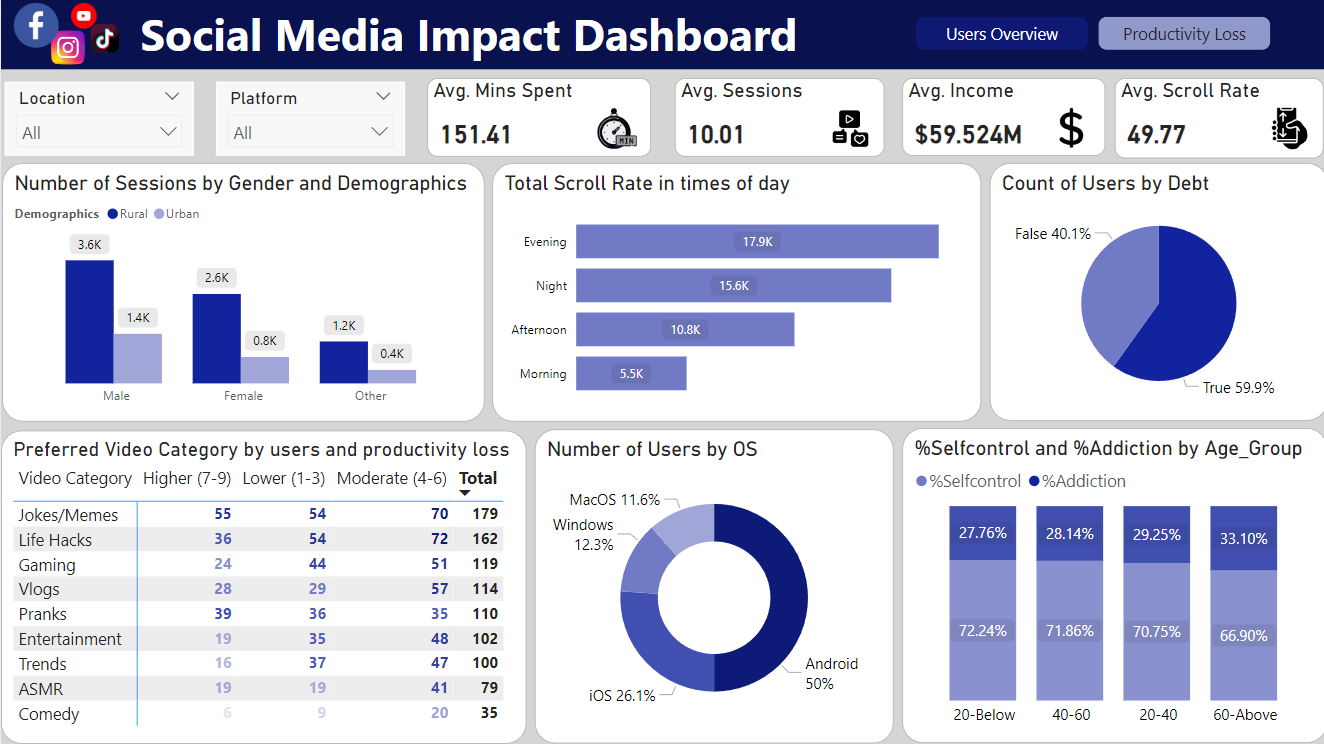

This screenshot's page, from the dashboard's own definition file:
{"tool":"powerbi","page":{"name":"Users Overview","canvas":[1280,720],"ordinal":0},"visuals":[{"type":"textbox","box":[0,0,1280,68.8],"z":0},{"type":"pageNavigator","box":[811.9,20.5,342.6,32.6],"z":1000},{"type":"slicer","fields":{"Values":["Social_Media.Platform"]},"box":[207.5,80.8,182.2,71.2],"z":2000},{"type":"slicer","fields":{"Values":["Social_Media.Location"]},"box":[3.6,80.8,182.2,71.2],"z":3000},{"type":"cardVisual","title":"Avg. Income","fields":{"Data":["Sum(Social_Media.Income)"]},"box":[869.4,77.8,195.8,75],"z":4000},{"type":"cardVisual","title":"Avg. Mins Spent","fields":{"Data":["Avg(Social_Media.Total Time Spent (MINS) )"]},"box":[411.4,77.2,216,76],"z":5000},{"type":"cardVisual","title":"Avg. Sessions","fields":{"Data":["Avg(Social_Media.Number of Sessions)"]},"box":[650.3,77.2,202.7,76],"z":6000},{"type":"barChart","title":"Total Scroll Rate in times of day","fields":{"Category":["Social_Media.Frequency"],"Y":["Sum(Social_Media.Scroll Rate)"]},"box":[474.1,159.3,471.7,249.7],"z":7000},{"type":"donutChart","title":"Number of Users by OS","fields":{"Category":["Social_Media.OS"],"Y":["CountNonNull(Social_Media.UserID)"]},"box":[515.2,416.2,346.2,302.8],"z":8000},{"type":"pivotTable","title":"Preferred Video Category by users and productivity loss","fields":{"Rows":["Social_Media.Video Category"],"Values":["CountNonNull(Social_Media.UserID)"],"Columns":["Social_Media.Productivity Loss"]},"box":[0,417.7,507.6,302.5],"z":9000},{"type":"pieChart","title":"Count of Users by Debt","fields":{"Category":["Social_Media.Debt"],"Y":["CountNonNull(Social_Media.UserID)"]},"box":[954.2,159.7,326.4,248.6],"z":10000},{"type":"image","box":[67.6,20.5,65.1,37.4],"z":11000},{"type":"image","box":[41,26.5,47.1,42.2],"z":12000},{"type":"image","box":[1.2,0,65.1,53.1],"z":13000},{"type":"image","box":[62.7,0,35,35],"z":14000},{"type":"hundredPercentStackedColumnChart","fields":{"Category":["Social_Media.Age_Group"],"Y":["Social_Media.%Selfcontrol","Social_Media.%Addiction"]},"box":[869.8,415,410.2,304],"z":15000},{"type":"clusteredColumnChart","title":"Number of Sessions by Gender and Demographics","fields":{"Category":["Social_Media.Gender"],"Y":["Sum(Social_Media.Number of Sessions)"],"Series":["Social_Media.Demographics"]},"box":[1.2,159.3,465.7,249.7],"z":16000},{"type":"cardVisual","title":"Avg. Scroll Rate","fields":{"Data":["Avg(Social_Media.Scroll Rate)"]},"box":[1074.9,77.2,201.5,77.2],"z":17000},{"type":"actionButton","box":[1166.6,0,113.4,26.5],"z":18000}]}

Visuals, with their boxes in screenshot pixels (x1, y1, x2, y2), scaled from the page's 1280x720 canvas onto the 1324x744 screenshot:
textbox: x1=0 y1=0 x2=1323 y2=71
pageNavigator: x1=840 y1=21 x2=1194 y2=55
slicer - Social_Media.Platform: x1=215 y1=83 x2=403 y2=157
slicer - Social_Media.Location: x1=4 y1=83 x2=192 y2=157
"Avg. Income" cardVisual: x1=899 y1=80 x2=1102 y2=158
"Avg. Mins Spent" cardVisual: x1=426 y1=80 x2=649 y2=158
"Avg. Sessions" cardVisual: x1=673 y1=80 x2=882 y2=158
"Total Scroll Rate in times of day" barChart: x1=490 y1=165 x2=978 y2=423
"Number of Users by OS" donutChart: x1=533 y1=430 x2=891 y2=743
"Preferred Video Category by users and productivity loss" pivotTable: x1=0 y1=432 x2=525 y2=743
"Count of Users by Debt" pieChart: x1=987 y1=165 x2=1323 y2=422
image: x1=70 y1=21 x2=137 y2=60
image: x1=42 y1=27 x2=91 y2=71
image: x1=1 y1=0 x2=69 y2=55
image: x1=65 y1=0 x2=101 y2=36
hundredPercentStackedColumnChart - Social_Media.Age_Group x Social_Media.%Selfcontrol: x1=900 y1=429 x2=1323 y2=743
"Number of Sessions by Gender and Demographics" clusteredColumnChart: x1=1 y1=165 x2=483 y2=423
"Avg. Scroll Rate" cardVisual: x1=1112 y1=80 x2=1320 y2=160
actionButton: x1=1207 y1=0 x2=1323 y2=27
